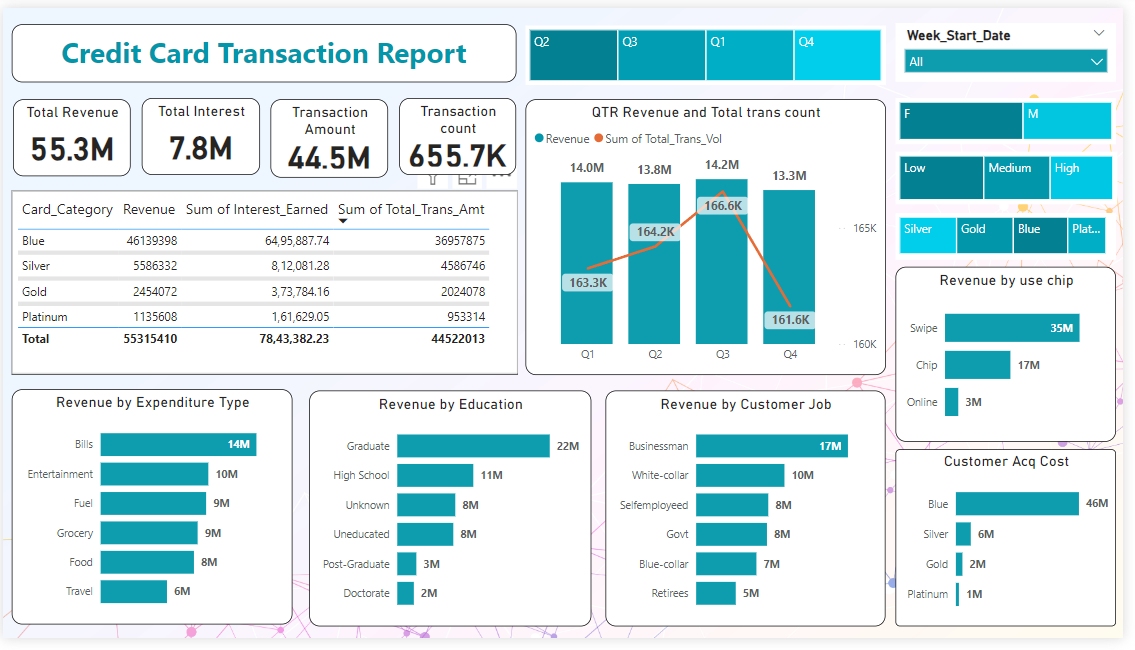

The dashboard page shown, as its layout file describes it:
{"tool":"powerbi","page":{"name":"Credit Card Transaction Report","canvas":[1280,720],"ordinal":0},"visuals":[{"type":"textbox","box":[10,18.3,576.7,66.7],"z":0},{"type":"lineStackedColumnComboChart","title":"QTR Revenue and Total trans count","fields":{"Category":["cc_detail.Qtr"],"Y":["Sum(cc_detail.Revenue)"],"Y2":["Sum(cc_detail.Total_Trans_Vol)"]},"box":[596.6,104.1,411.6,314.9],"z":1000},{"type":"barChart","title":"Revenue by Expenditure Type","fields":{"Y":["Sum(cc_detail.Revenue)"],"Category":["cc_detail.Exp Type"]},"box":[9.7,435.5,320.9,269],"z":2000},{"type":"barChart","title":"Revenue by Education","fields":{"Y":["Sum(cc_detail.Revenue)"],"Category":["customer.Education_Level"]},"box":[350.4,437.4,322.2,269.5],"z":3000},{"type":"barChart","title":"Revenue by Customer Job","fields":{"Y":["Sum(cc_detail.Revenue)"],"Category":["customer.Customer_Job"]},"box":[688.5,437.4,319.8,269.5],"z":4000},{"type":"barChart","title":"Customer Acq Cost","fields":{"Y":["Sum(cc_detail.Revenue)"],"Category":["cc_detail.Card_Category"]},"box":[1020.5,504.7,252.4,202.1],"z":5000},{"type":"barChart","title":"Revenue  by use chip","fields":{"Y":["Sum(cc_detail.Revenue)"],"Category":["cc_detail.Use Chip"]},"box":[1020.5,295.3,252.4,199.7],"z":6000},{"type":"tableEx","fields":{"Values":["cc_detail.Card_Category","Sum(cc_detail.Revenue)","Sum(cc_detail.Interest_Earned)","Sum(cc_detail.Total_Trans_Amt)"]},"box":[9.8,208.3,578.3,210.7],"z":7000},{"type":"card","title":"Total Revenue","fields":{"Values":["Sum(cc_detail.Revenue)"]},"box":[11,104.1,134.8,88.2],"z":8000},{"type":"card","title":"Total Interest","fields":{"Values":["Sum(cc_detail.Interest_Earned)"]},"box":[158.3,103.3,135,88.3],"z":9000},{"type":"card","title":"Transaction Amount","fields":{"Values":["Sum(cc_detail.Total_Trans_Amt)"]},"box":[305.1,104.1,134.8,89.4],"z":10000},{"type":"card","title":"Transaction count","fields":{"Values":["Sum(cc_detail.Total_Trans_Vol)"]},"box":[453.3,103.3,133.3,88.3],"z":11000},{"type":"slicer","fields":{"Values":["cc_detail.Week_Start_Date"]},"box":[1020.5,17.2,252.4,67.4],"z":12000},{"type":"treemap","fields":{"Group":["cc_detail.Qtr"],"Values":["CountNonNull(cc_detail.Client_Num)"]},"box":[596.7,20,411.7,68.3],"z":13000},{"type":"treemap","fields":{"Values":["CountNonNull(cc_detail.Client_Num)"],"Group":["customer.Gender"]},"box":[1020.5,102.9,252.4,52.7],"z":14000},{"type":"treemap","fields":{"Group":["customer.IncomeGroup"],"Values":["CountNonNull(cc_detail.Client_Num)"]},"box":[1019.3,164.2,253.6,60],"z":15000},{"type":"treemap","fields":{"Values":["CountNonNull(cc_detail.Client_Num)"],"Details":["cc_detail.Card_Category"]},"box":[1020.5,234,252.4,53.9],"z":16000}]}

Visuals, with their boxes in screenshot pixels (x1, y1, x2, y2), scaled from the page's 1280x720 canvas onto the 1135x650 screenshot:
textbox: <region>9, 17, 520, 77</region>
"QTR Revenue and Total trans count" lineStackedColumnComboChart: <region>529, 94, 894, 378</region>
"Revenue by Expenditure Type" barChart: <region>9, 393, 293, 636</region>
"Revenue by Education" barChart: <region>311, 395, 596, 638</region>
"Revenue by Customer Job" barChart: <region>611, 395, 894, 638</region>
"Customer Acq Cost" barChart: <region>905, 456, 1129, 638</region>
"Revenue  by use chip" barChart: <region>905, 267, 1129, 447</region>
tableEx - cc_detail.Card_Category x Sum(cc_detail.Revenue): <region>9, 188, 521, 378</region>
"Total Revenue" card: <region>10, 94, 129, 174</region>
"Total Interest" card: <region>140, 93, 260, 173</region>
"Transaction Amount" card: <region>271, 94, 390, 175</region>
"Transaction count" card: <region>402, 93, 520, 173</region>
slicer - cc_detail.Week_Start_Date: <region>905, 16, 1129, 76</region>
treemap - cc_detail.Qtr x CountNonNull(cc_detail.Client_Num): <region>529, 18, 894, 80</region>
treemap - CountNonNull(cc_detail.Client_Num) x customer.Gender: <region>905, 93, 1129, 140</region>
treemap - customer.IncomeGroup x CountNonNull(cc_detail.Client_Num): <region>904, 148, 1129, 202</region>
treemap - CountNonNull(cc_detail.Client_Num) x cc_detail.Card_Category: <region>905, 211, 1129, 260</region>
